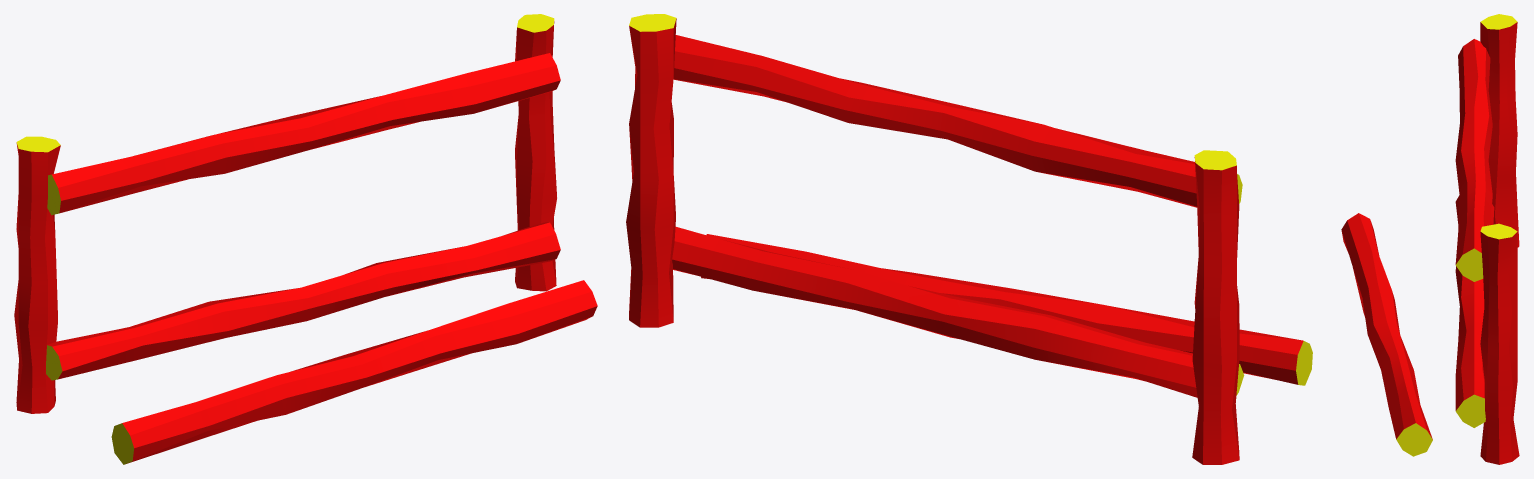
File: Abbie - Fence1.fbx
3 views of the same model, side by side, from view 1: azimuth 30°, elevation 25°; view 2: azimuth 150°, elevation 25°; view 3: azimuth 270°, elevation 25° (orthographic). The views are drawn at different scales.
Parts seen in each view (by area): view 1: fence1; view 2: fence1; view 3: fence1.
Boxes of the visible parts, bbox=[...] form: fence1: bbox=[14, 14, 597, 464]; fence1: bbox=[626, 14, 1312, 464]; fence1: bbox=[1341, 14, 1519, 464].
Bounding box in the file's own units: 2.17 × 1 × 0.7182.
